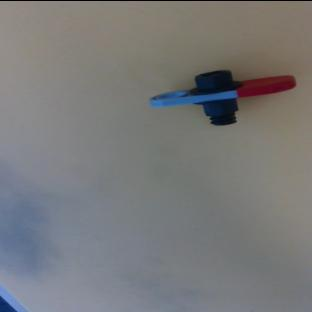part_1_good: (149, 64, 299, 129)
